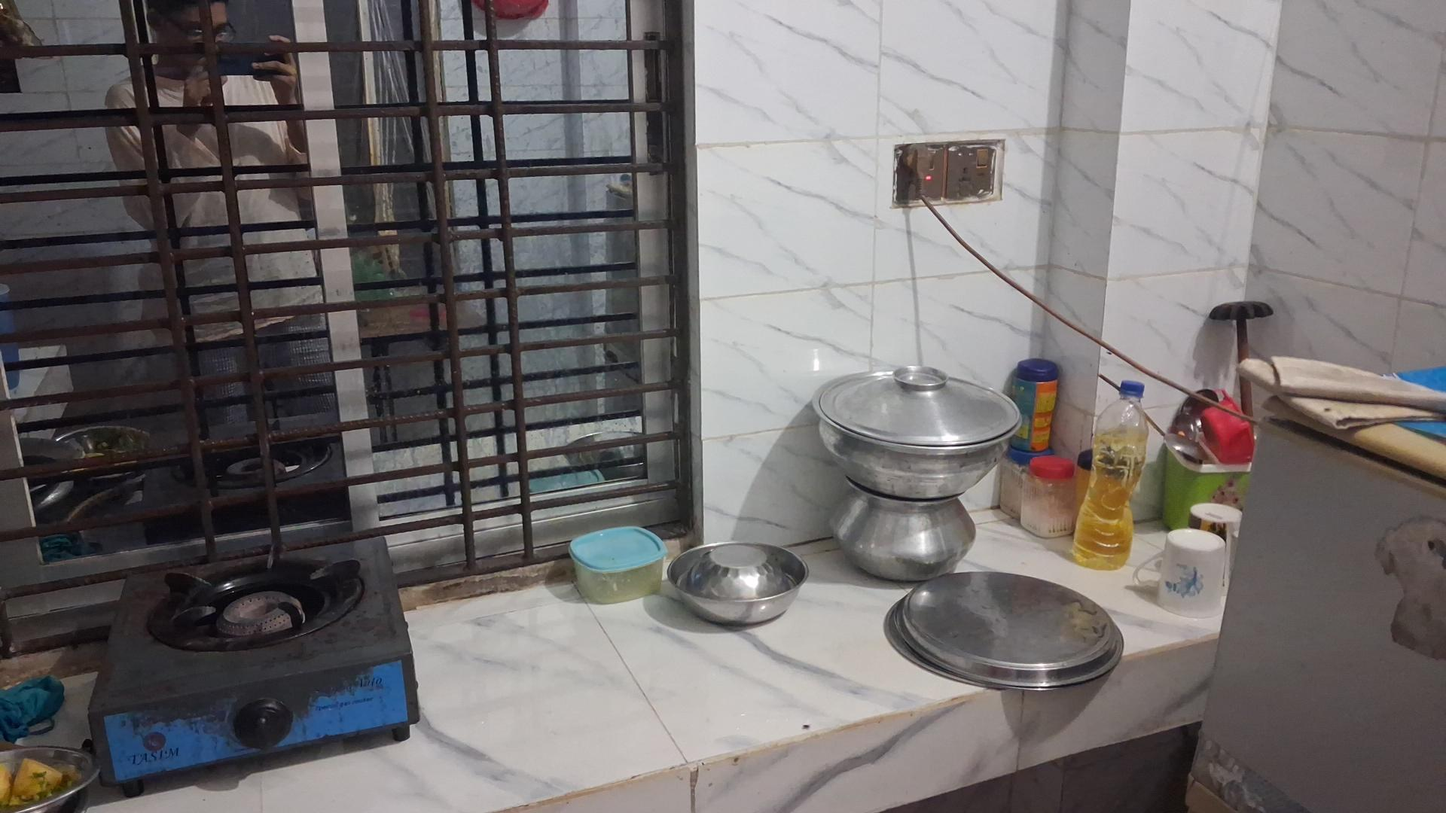Bottle: (1070, 379, 1148, 571)
Bowl: (665, 540, 808, 627), (0, 743, 99, 812)
Clock: (893, 138, 1006, 208)
Cup: (1157, 528, 1227, 621)
Food: (0, 756, 76, 798)
Jar: (568, 526, 668, 605), (1013, 358, 1060, 453), (1021, 459, 1075, 537)
Plate: (890, 573, 1124, 687)
Pot: (810, 364, 1020, 499), (830, 497, 976, 577)
Window: (0, 2, 693, 591)
